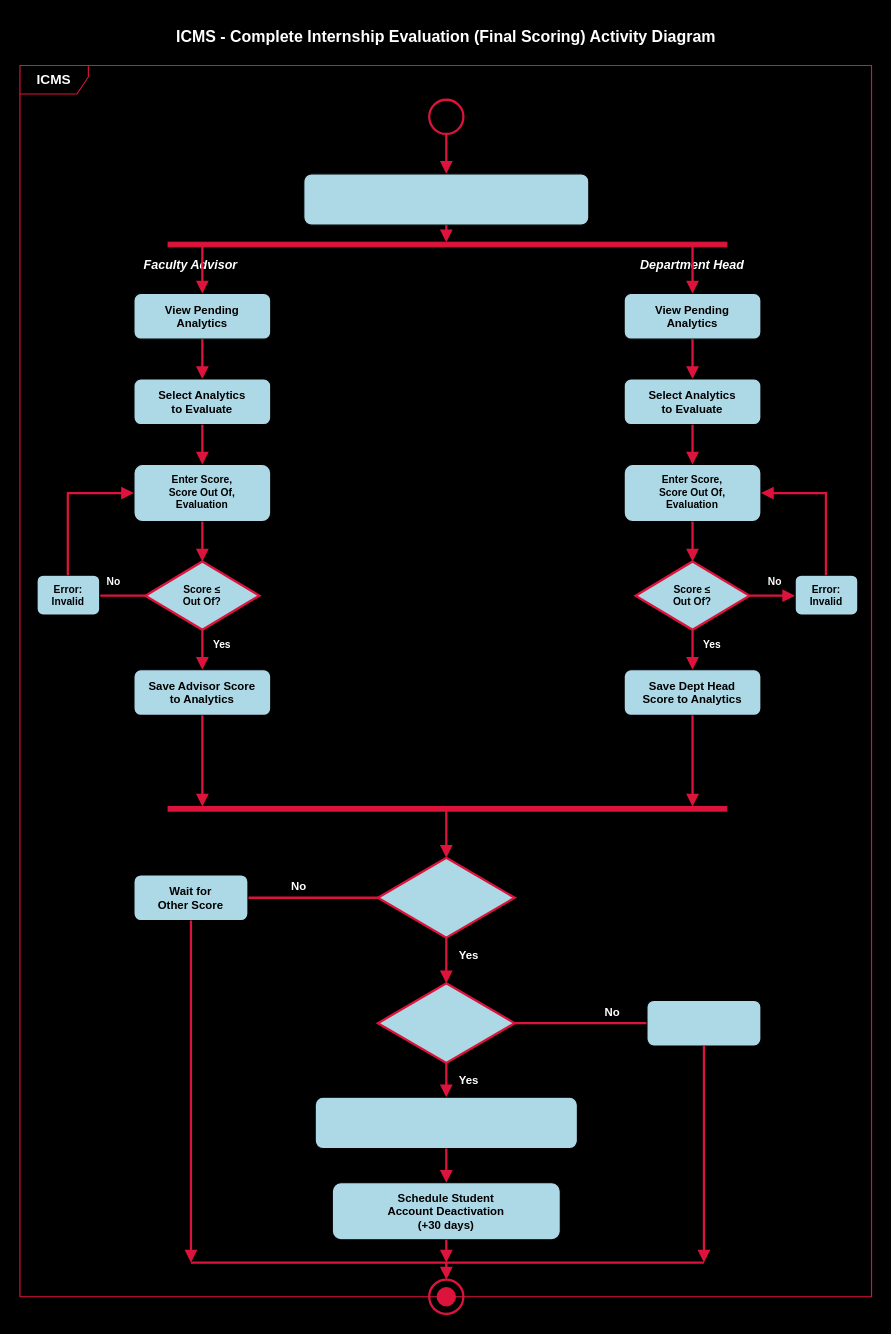
Image size: 891x1334. Some labels were removed from this diagram. Here are the shapes that lost their labels. From the top down, the centre of each, then its label:
(446,199): Analytics Submitted by Supervisor (Awaiting Evaluation)
(445,897): Both Scores Submitted?
(445,1023): Out Of Sum = 100?
(703,1022): Error: Sum must equal 100
(445,1122): Calculate Final Score = advisor_score + dept_head_score
